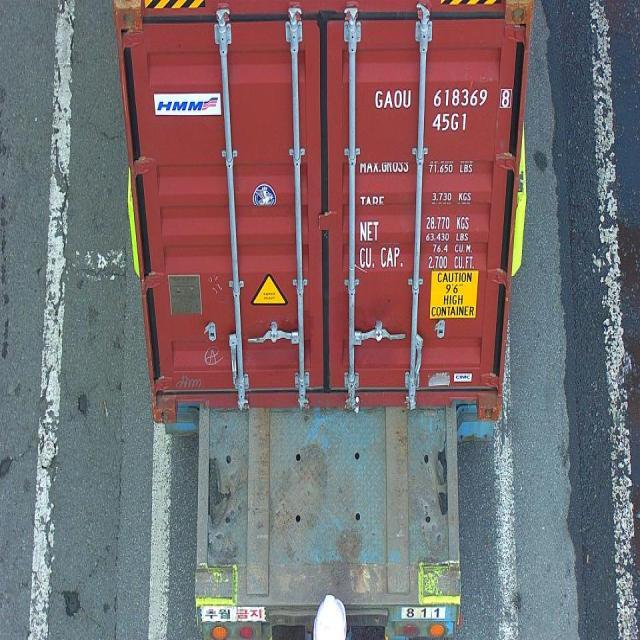ISO: (434, 112, 468, 130)
container_number: (374, 88, 504, 111)
